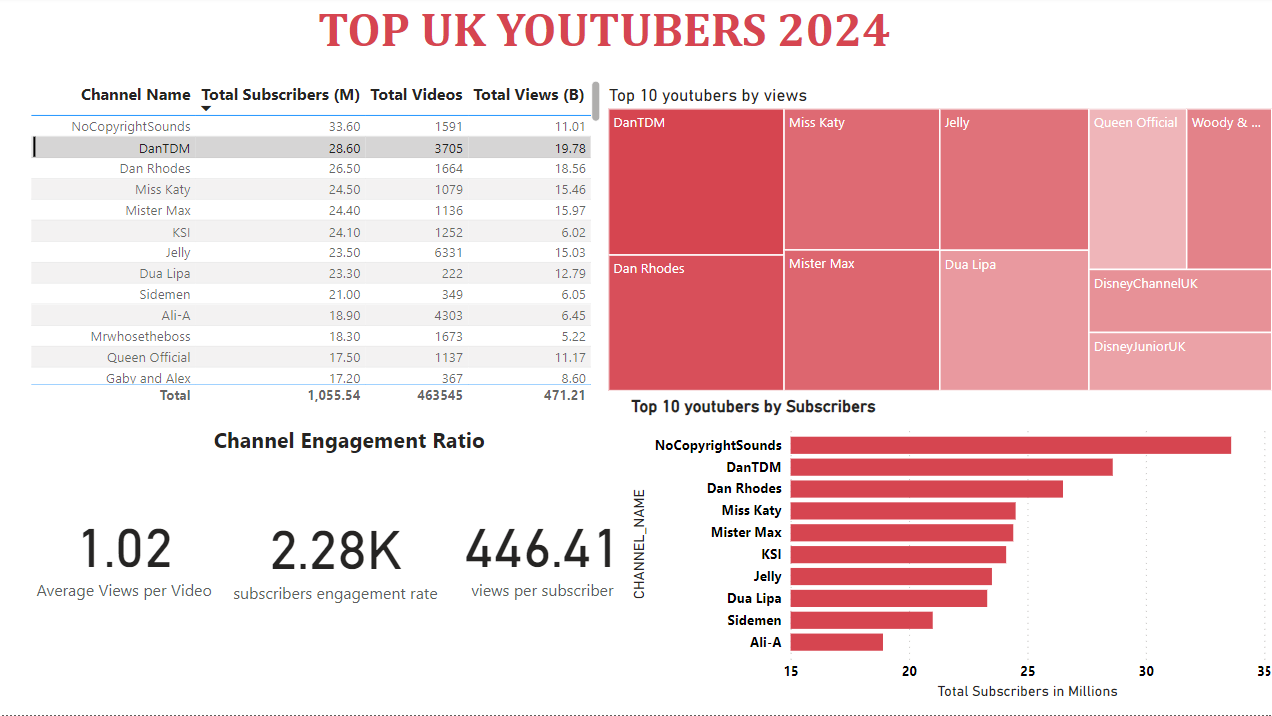

Layout of this report page (visuals, bound fields, positions):
{"tool":"powerbi","page":{"name":"Page 1","canvas":[1280,720],"ordinal":0},"visuals":[{"type":"textbox","box":[290.4,0,629.6,80.1],"z":1},{"type":"tableEx","fields":{"Values":["VIEW_UK_YOUTUBERS_2024.CHANNEL_NAME","VIEW_UK_YOUTUBERS_2024.Total Subscribers in Millions","VIEW_UK_YOUTUBERS_2024.total videos","VIEW_UK_YOUTUBERS_2024.Total Views in Billion"]},"box":[25,80.1,580.8,334.2],"z":2},{"type":"treemap","title":"Top 10  youtubers by views","fields":{"Group":["VIEW_UK_YOUTUBERS_2024.CHANNEL_NAME"],"Values":["VIEW_UK_YOUTUBERS_2024.Total Subscribers in Millions"]},"box":[605.1,89.2,675.1,311.5],"z":3},{"type":"card","title":"AVG VIEW PER VIDEOS","fields":{"Values":["VIEW_UK_YOUTUBERS_2024.Average Views per Video"]},"box":[25,476.9,199,159],"z":4},{"type":"card","title":"SUBS ENGAGEMENT RATE","fields":{"Values":["VIEW_UK_YOUTUBERS_2024.subscribers engagement rate"]},"box":[224.1,464.4,224.1,189],"z":5},{"type":"card","title":"VIEWS PER SUBSCRIBER","fields":{"Values":["VIEW_UK_YOUTUBERS_2024.views per subscriber"]},"box":[459.4,476.9,167.7,159],"z":6},{"type":"clusteredBarChart","title":"Top 10 youtubers by Subscribers","fields":{"Category":["VIEW_UK_YOUTUBERS_2024.CHANNEL_NAME"],"Y":["VIEW_UK_YOUTUBERS_2024.Total Subscribers in Millions"]},"box":[627.1,400.6,652.2,309.2],"z":7},{"type":"textbox","box":[209,424.3,306.7,40.1],"z":8}]}

Visuals, with their boxes in screenshot pixels (x1, y1, x2, y2), scaled from the page's 1280x720 canvas onto the 1272x716 screenshot:
textbox: l=289, t=0, r=914, b=80
tableEx - VIEW_UK_YOUTUBERS_2024.CHANNEL_NAME x VIEW_UK_YOUTUBERS_2024.Total Subscribers in Millions: l=25, t=80, r=602, b=412
"Top 10  youtubers by views" treemap: l=601, t=89, r=1271, b=398
"AVG VIEW PER VIDEOS" card: l=25, t=474, r=223, b=632
"SUBS ENGAGEMENT RATE" card: l=223, t=462, r=445, b=650
"VIEWS PER SUBSCRIBER" card: l=457, t=474, r=623, b=632
"Top 10 youtubers by Subscribers" clusteredBarChart: l=623, t=398, r=1271, b=706
textbox: l=208, t=422, r=512, b=462
